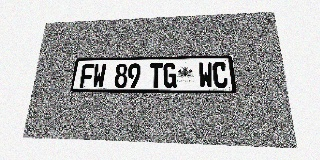8: (114, 64, 128, 88)
9: (127, 63, 141, 88)
C: (212, 62, 228, 88)
F: (79, 64, 94, 88)
G: (163, 63, 176, 88)
T: (149, 63, 163, 88)
W: (198, 62, 213, 88), (92, 64, 106, 88)
